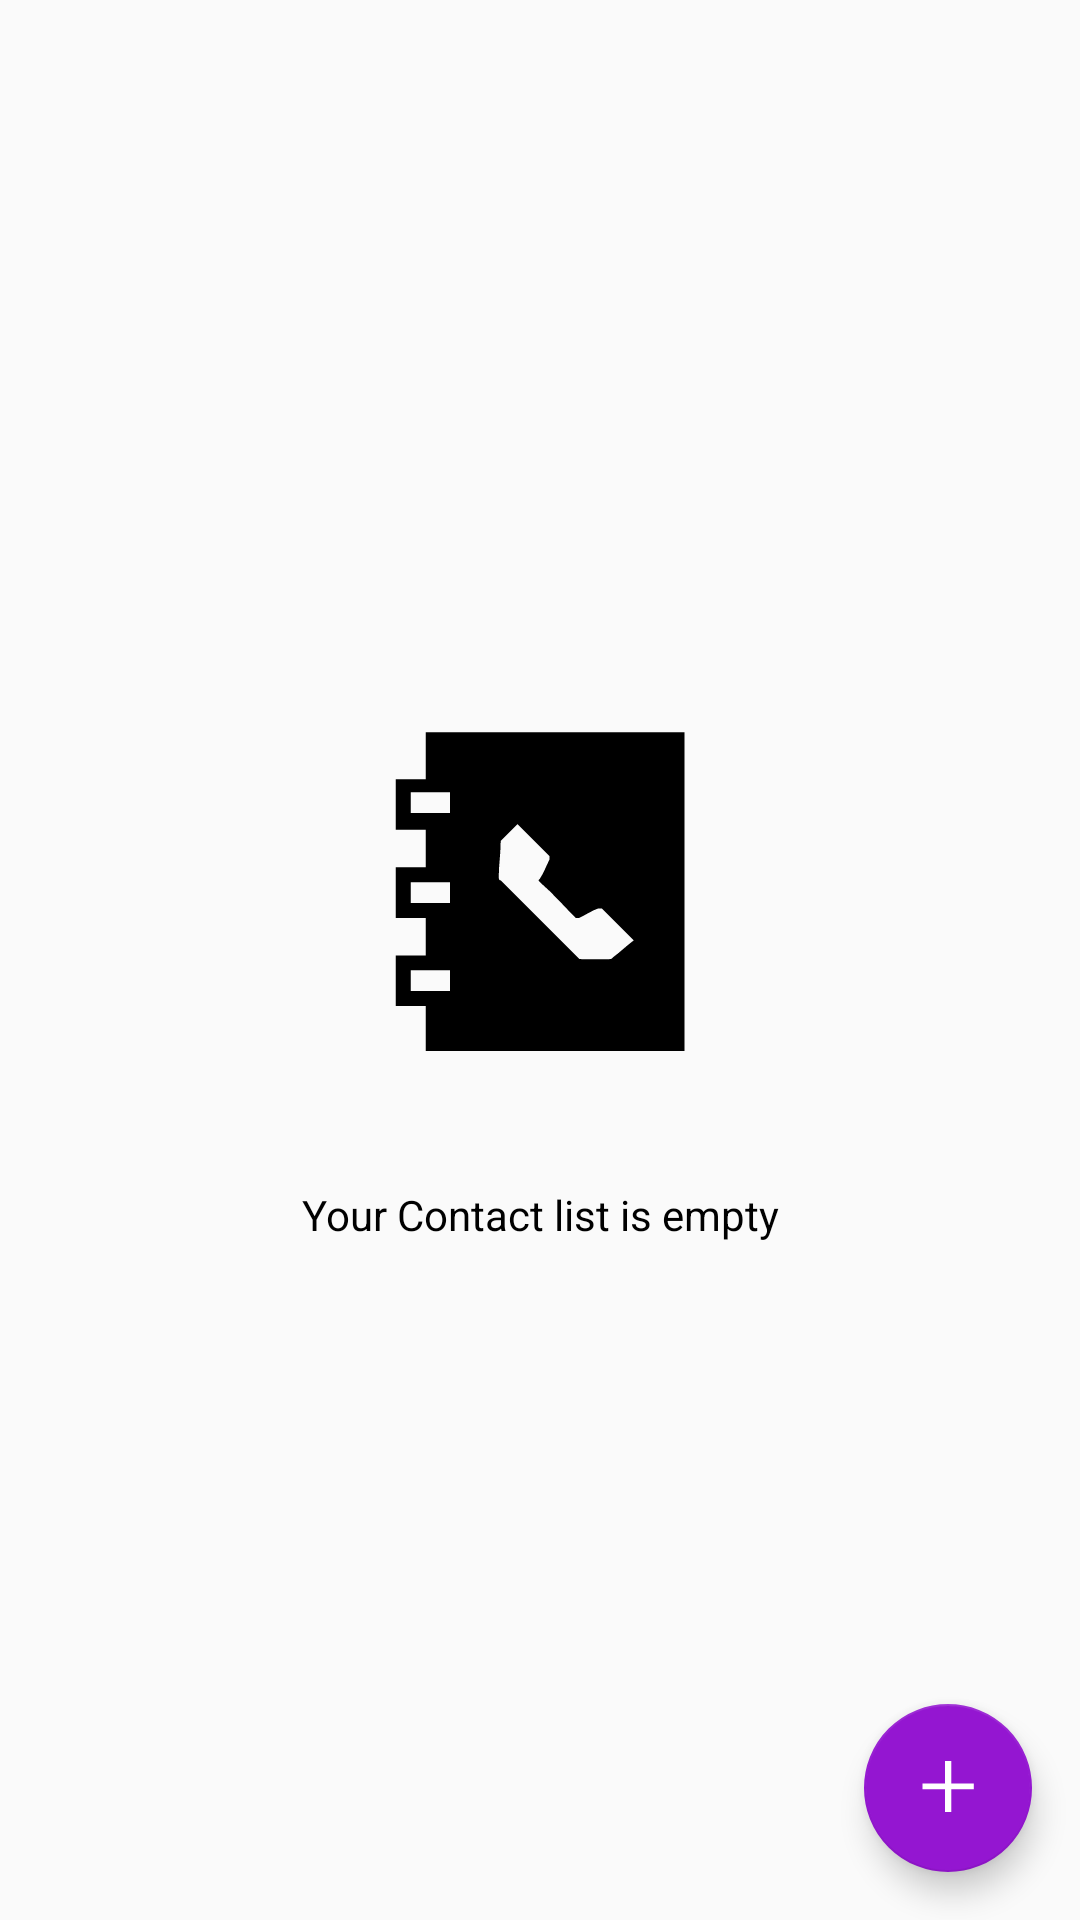

Where icons sit on this 1080×1920 app screen, as [left=x1, top=y1, right=x2, bottom=y2]:
Add Contact: [left=864, top=1704, right=1032, bottom=1872]
contact book: [left=395, top=732, right=685, bottom=1051]
